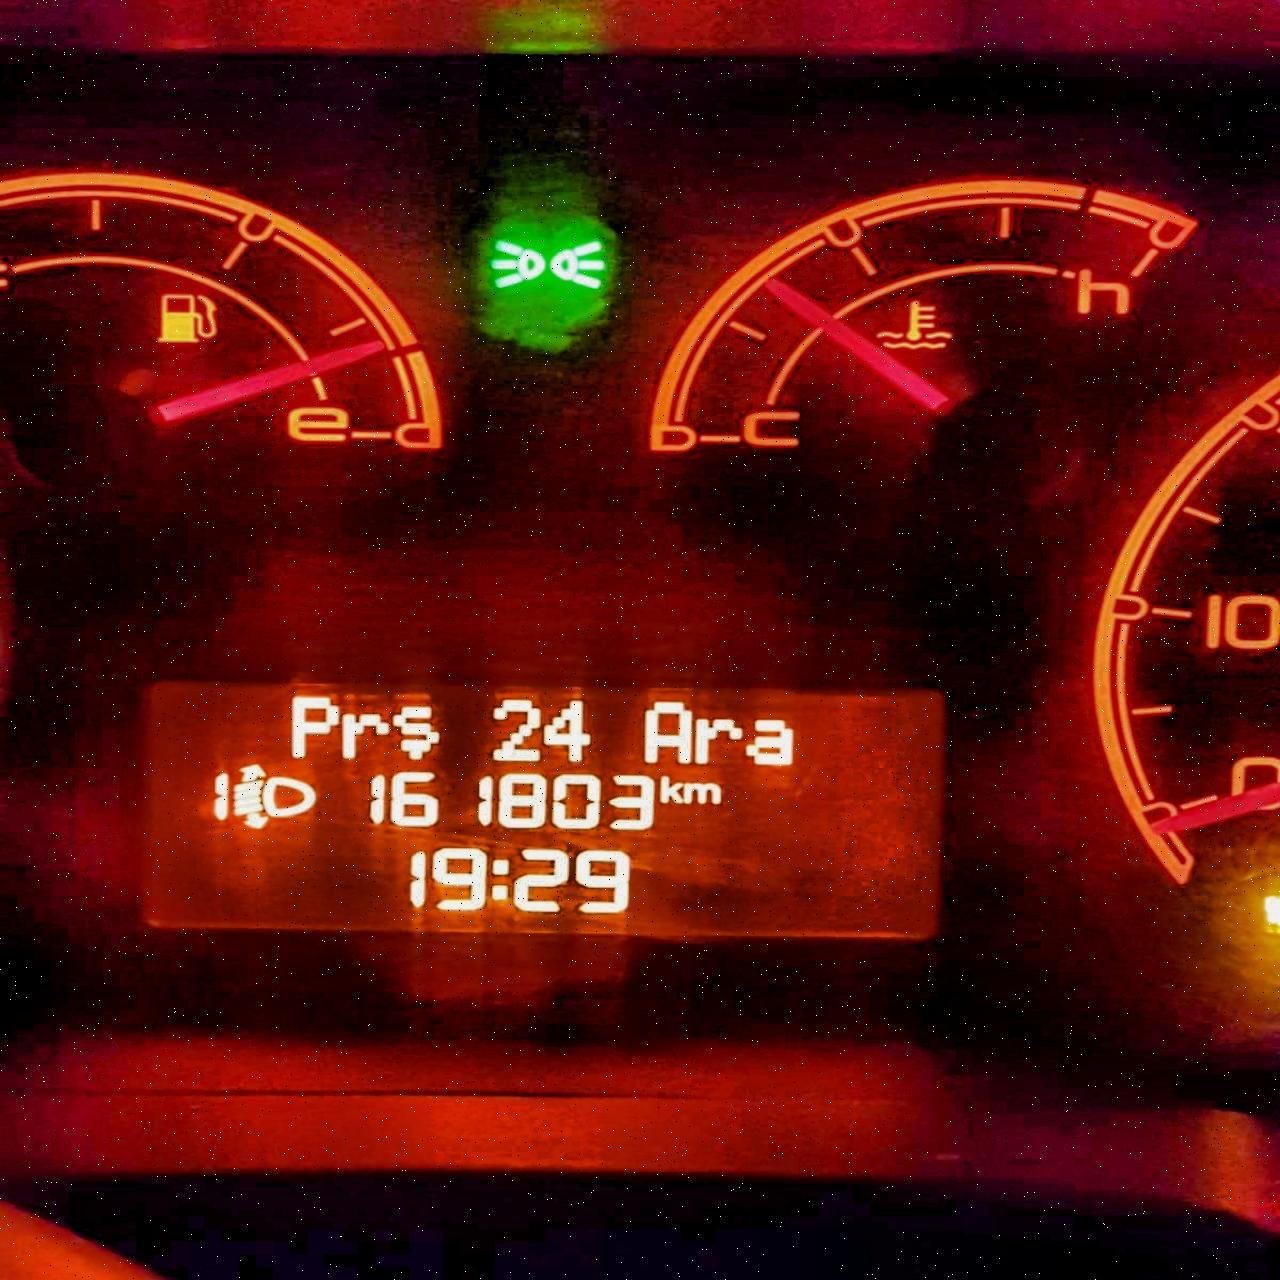0: (551, 771, 599, 831)
1: (403, 843, 429, 919), (205, 764, 230, 835), (474, 770, 496, 832), (365, 769, 387, 828)
2: (512, 844, 565, 913), (489, 695, 539, 762)
3: (612, 771, 654, 835)
4: (546, 697, 595, 763)
6: (390, 769, 440, 828)
8: (498, 768, 547, 830)
9: (573, 845, 632, 913), (434, 844, 484, 911)
X: (282, 689, 334, 758), (641, 699, 692, 762), (742, 714, 798, 769), (393, 700, 442, 760), (339, 708, 384, 762), (696, 714, 737, 761), (489, 849, 511, 906), (683, 778, 723, 805), (659, 774, 680, 805)
odometer: (132, 672, 961, 948)
